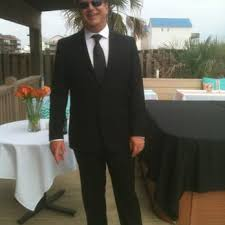F_M_suit jacket: (47, 26, 151, 154)
F_dress pants: (69, 137, 145, 225)
F_tie: (90, 32, 108, 78)
